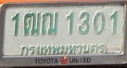num1: (10, 11, 20, 37)
txt09: (41, 11, 59, 37)
txt13: (22, 11, 41, 37)
